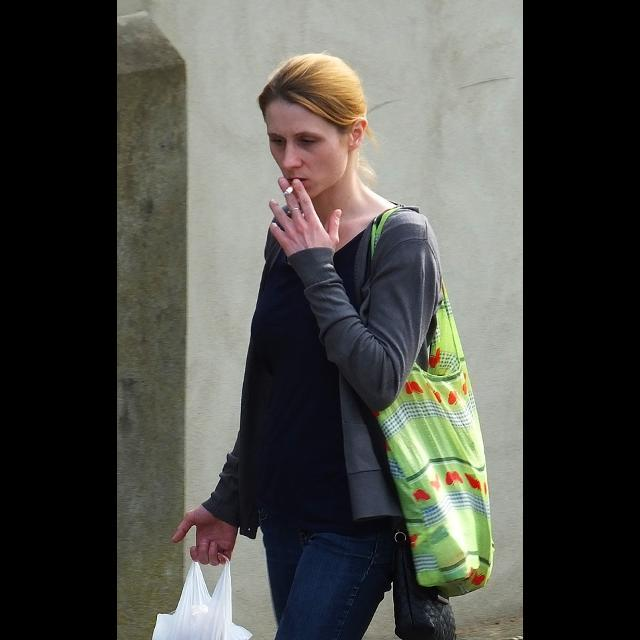rokok: (280, 185, 298, 192)
